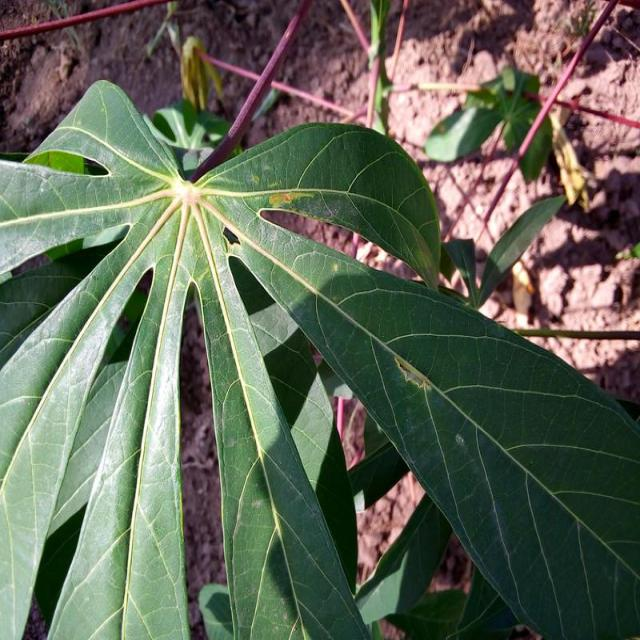cassava leaf: (2, 77, 640, 638)
